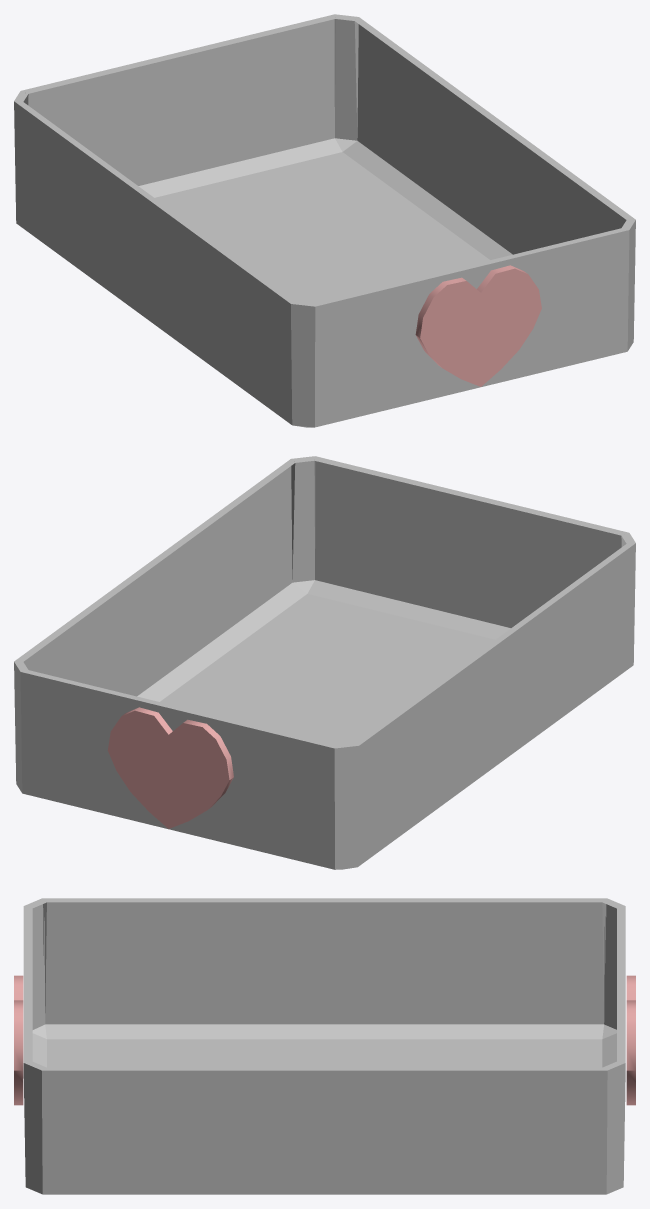
The model's file is basket 1.fbx.
The picture shows the model from 3 angles, top to bottom: view 1: azimuth 30°, elevation 25°; view 2: azimuth 150°, elevation 25°; view 3: azimuth 270°, elevation 25°; orthographic projection. The views are drawn at different scales.
Parts seen in each view (by area): view 1: pCube2, pCube1, pCylinder7; view 2: pCube2, pCube1, pCylinder8; view 3: pCube2, pCube1, pCylinder7, pCylinder8.
Boxes of the visible parts, x1=… form: pCube2: x1=21, y1=17, x2=628, y2=303; pCube1: x1=14, y1=14, x2=635, y2=427; pCylinder7: x1=415, y1=265, x2=541, y2=386; pCube2: x1=21, y1=459, x2=629, y2=745; pCube1: x1=14, y1=456, x2=635, y2=869; pCylinder8: x1=107, y1=707, x2=233, y2=828; pCube2: x1=30, y1=901, x2=619, y2=1067; pCube1: x1=23, y1=898, x2=625, y2=1194; pCylinder7: x1=14, y1=975, x2=23, y2=1105; pCylinder8: x1=626, y1=975, x2=635, y2=1105.
Size of the model in its own units: 2.75 by 0.9816 by 4.2.
